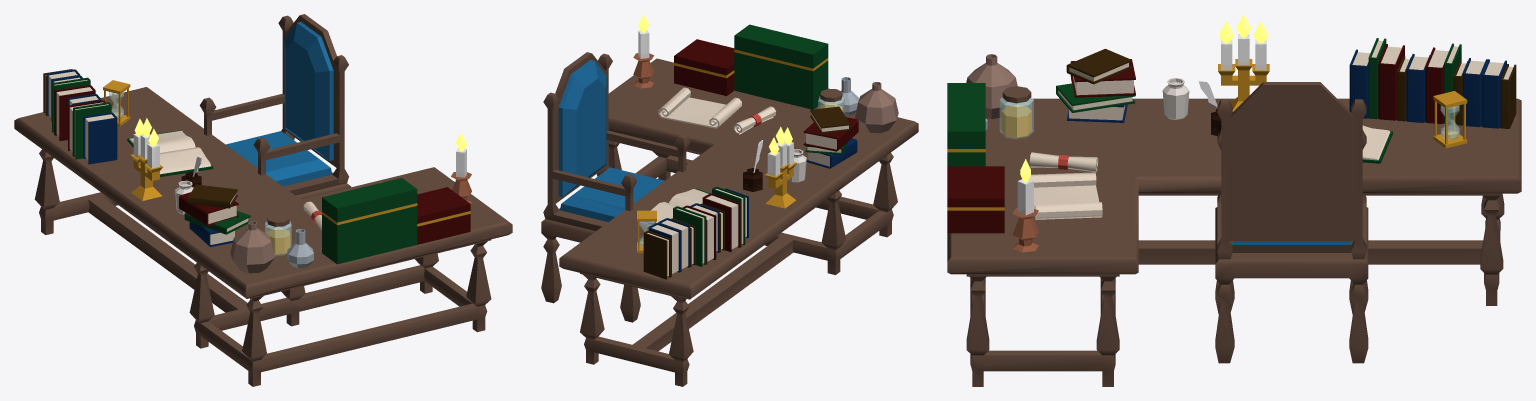
3 renders of one model, left to right at view 1: azimuth 30°, elevation 25°; view 2: azimuth 150°, elevation 25°; view 3: azimuth 270°, elevation 25°, orthographic. The views are drawn at different scales.
Visible parts, largest first — view 1: Desk_2x3x1_proxy.001_0, Desk_2x3x1_proxy.001_7, Desk_2x3x1_proxy.001_3, Desk_2x3x1_proxy.001_8, Desk_2x3x1_proxy.001_5, Desk_2x3x1_proxy.001_6, Desk_2x3x1_proxy.001_10, Desk_2x3x1_proxy.001_2, Desk_2x3x1_proxy.001_4, Desk_2x3x1_proxy.001_15, Desk_2x3x1_proxy.001_11, Desk_2x3x1_proxy.001_1 (+2 smaller); view 2: Desk_2x3x1_proxy.001_0, Desk_2x3x1_proxy.001_7, Desk_2x3x1_proxy.001_3, Desk_2x3x1_proxy.001_5, Desk_2x3x1_proxy.001_8, Desk_2x3x1_proxy.001_4, Desk_2x3x1_proxy.001_10, Desk_2x3x1_proxy.001_2, Desk_2x3x1_proxy.001_6, Desk_2x3x1_proxy.001_15, Desk_2x3x1_proxy.001_14, Desk_2x3x1_proxy.001_1 (+4 smaller); view 3: Desk_2x3x1_proxy.001_0, Desk_2x3x1_proxy.001_5, Desk_2x3x1_proxy.001_8, Desk_2x3x1_proxy.001_7, Desk_2x3x1_proxy.001_6, Desk_2x3x1_proxy.001_4, Desk_2x3x1_proxy.001_10, Desk_2x3x1_proxy.001_11, Desk_2x3x1_proxy.001_15, Desk_2x3x1_proxy.001_2, Desk_2x3x1_proxy.001_9, Desk_2x3x1_proxy.001_17 (+2 smaller).
Part boxes in pixels (x1,y1,x2,y2): Desk_2x3x1_proxy.001_0: [14, 14, 512, 386]; Desk_2x3x1_proxy.001_7: [52, 77, 417, 264]; Desk_2x3x1_proxy.001_3: [226, 22, 333, 186]; Desk_2x3x1_proxy.001_8: [54, 85, 470, 244]; Desk_2x3x1_proxy.001_5: [45, 71, 381, 244]; Desk_2x3x1_proxy.001_6: [46, 69, 232, 246]; Desk_2x3x1_proxy.001_10: [103, 80, 470, 226]; Desk_2x3x1_proxy.001_2: [230, 221, 274, 273]; Desk_2x3x1_proxy.001_4: [43, 69, 237, 208]; Desk_2x3x1_proxy.001_15: [133, 133, 466, 177]; Desk_2x3x1_proxy.001_11: [109, 92, 291, 256]; Desk_2x3x1_proxy.001_1: [287, 228, 313, 267]; Desk_2x3x1_proxy.001_0: [541, 52, 918, 386]; Desk_2x3x1_proxy.001_7: [644, 24, 847, 266]; Desk_2x3x1_proxy.001_3: [558, 60, 664, 221]; Desk_2x3x1_proxy.001_5: [647, 87, 848, 276]; Desk_2x3x1_proxy.001_8: [674, 39, 858, 264]; Desk_2x3x1_proxy.001_4: [643, 106, 850, 279]; Desk_2x3x1_proxy.001_10: [637, 49, 828, 253]; Desk_2x3x1_proxy.001_2: [855, 82, 898, 133]; Desk_2x3x1_proxy.001_6: [648, 138, 857, 276]; Desk_2x3x1_proxy.001_15: [638, 30, 793, 176]; Desk_2x3x1_proxy.001_14: [633, 53, 654, 88]; Desk_2x3x1_proxy.001_1: [841, 77, 859, 115]; Desk_2x3x1_proxy.001_0: [947, 82, 1521, 386]; Desk_2x3x1_proxy.001_5: [1029, 40, 1513, 219]; Desk_2x3x1_proxy.001_8: [947, 44, 1443, 233]; Desk_2x3x1_proxy.001_7: [947, 38, 1461, 166]; Desk_2x3x1_proxy.001_6: [1067, 49, 1506, 128]; Desk_2x3x1_proxy.001_4: [1066, 48, 1516, 128]; Desk_2x3x1_proxy.001_10: [947, 59, 1467, 210]; Desk_2x3x1_proxy.001_11: [999, 97, 1459, 140]; Desk_2x3x1_proxy.001_15: [1017, 34, 1266, 215]; Desk_2x3x1_proxy.001_2: [966, 54, 1017, 119]; Desk_2x3x1_proxy.001_9: [1162, 78, 1189, 119]; Desk_2x3x1_proxy.001_17: [1001, 105, 1031, 137].
Bounding box in the file's own units: 2 × 1.6 × 3.
